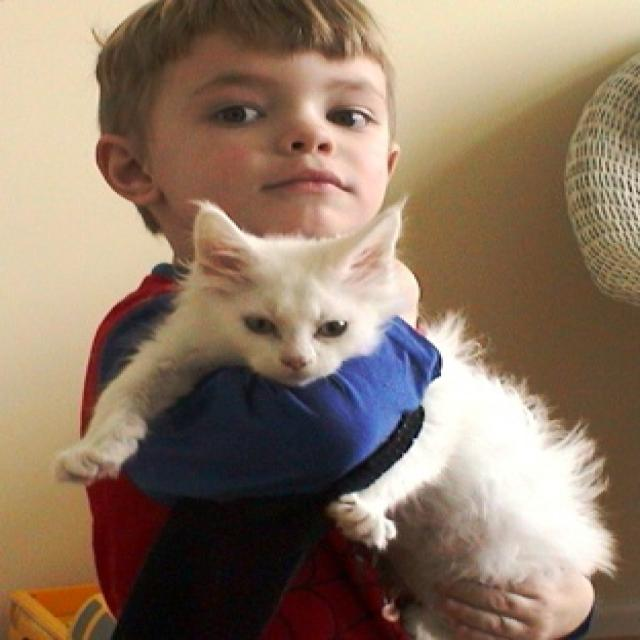cat: (53, 192, 621, 640)
person: (75, 1, 598, 639)
